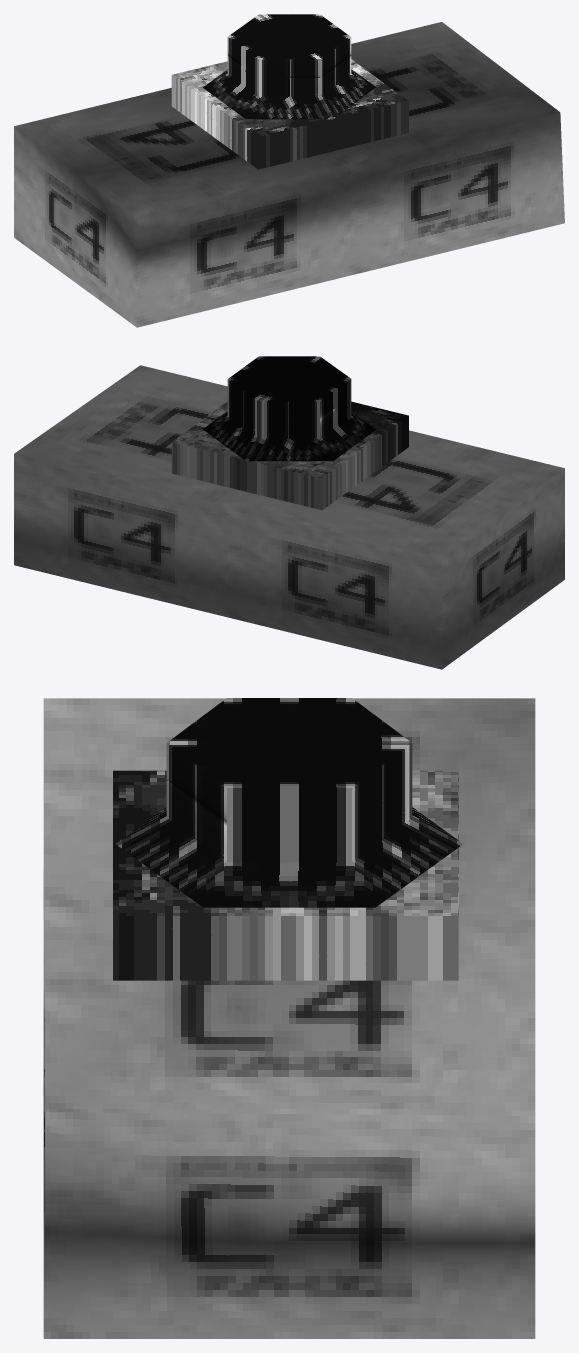
Rendered from GplastiqueZ.obj.
The picture shows the model from 3 angles, top to bottom: view 1: azimuth 30°, elevation 25°; view 2: azimuth 150°, elevation 25°; view 3: azimuth 270°, elevation 25°; orthographic projection. The views are drawn at different scales.
Size of the model in its own units: 426 by 184 by 212.
3 materials, 3 textured.
